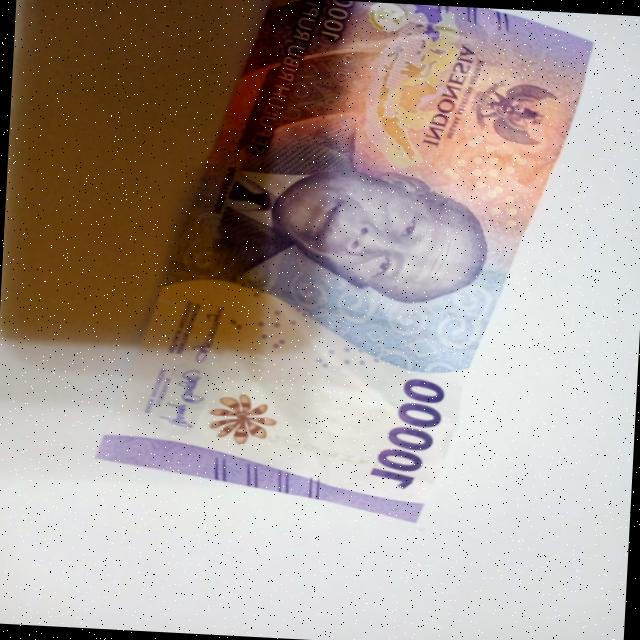10K: (80, 0, 603, 537)
